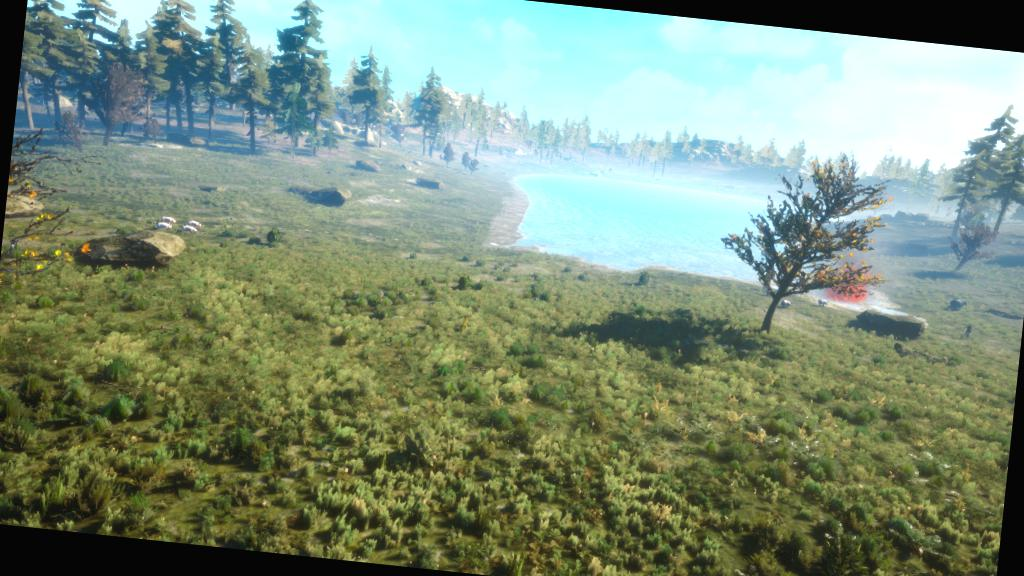Fire: (826, 266, 872, 302)
human: (964, 322, 974, 338)
pig: (155, 220, 174, 232), (160, 214, 177, 225), (184, 218, 202, 228), (182, 224, 198, 234), (814, 298, 830, 308), (780, 300, 794, 308)
